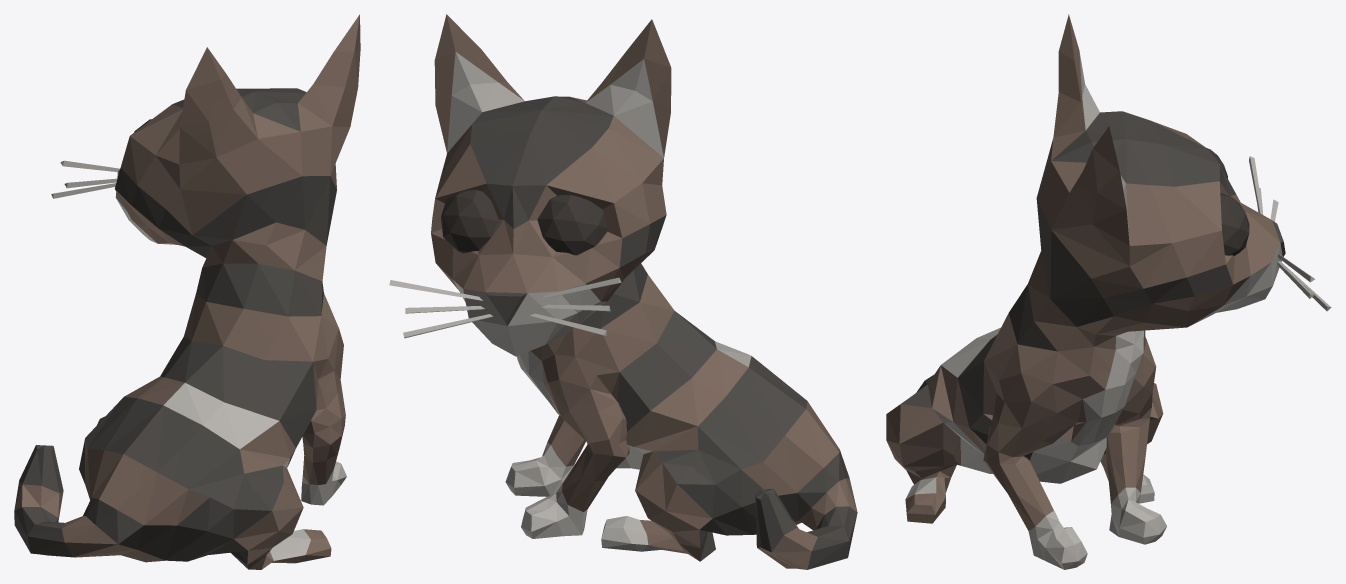
File: trinketMaximus.fbx
The picture shows the model from 3 angles, left to right: view 1: azimuth 30°, elevation 25°; view 2: azimuth 150°, elevation 25°; view 3: azimuth 270°, elevation 25°; orthographic projection. The views are drawn at different scales.
Visible parts, largest first — view 1: trinketMaximus; view 2: trinketMaximus; view 3: trinketMaximus.
Boxes of the visible parts, x1,y1,x2,y2 form: trinketMaximus: [14, 14, 360, 569]; trinketMaximus: [389, 14, 857, 569]; trinketMaximus: [886, 14, 1331, 569].
Bounding box in the file's own units: 1.35 × 1.7 × 1.39.
Materials: 1 (1 with a texture image).
